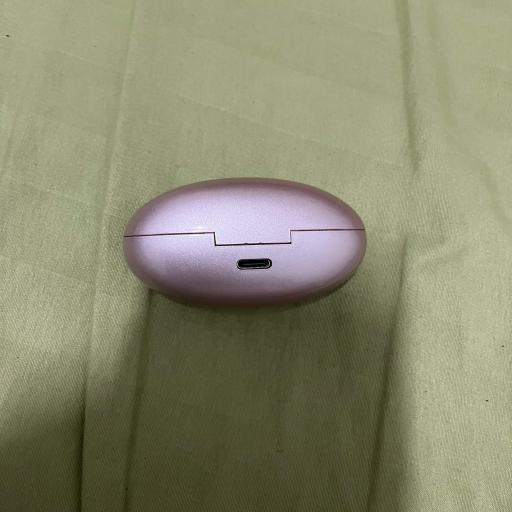GOOJODOQ: (124, 178, 366, 305)
